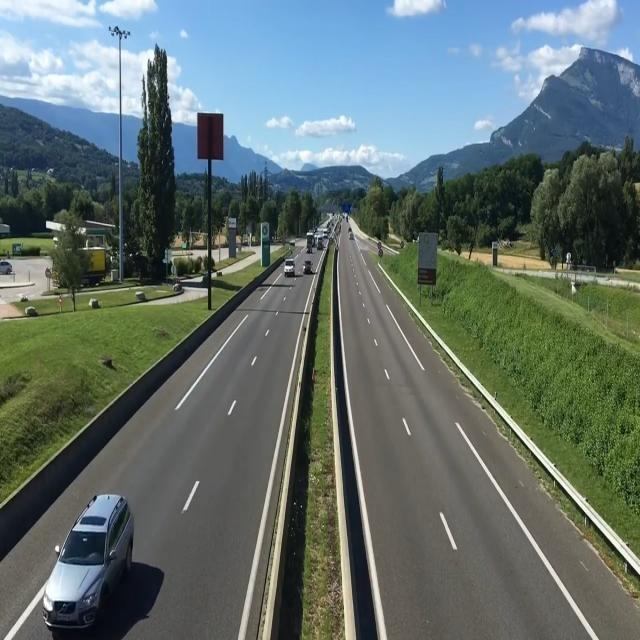Car: (43, 490, 135, 637), (302, 260, 314, 274)
Truck: (306, 232, 315, 250)
Van: (283, 258, 296, 276)
